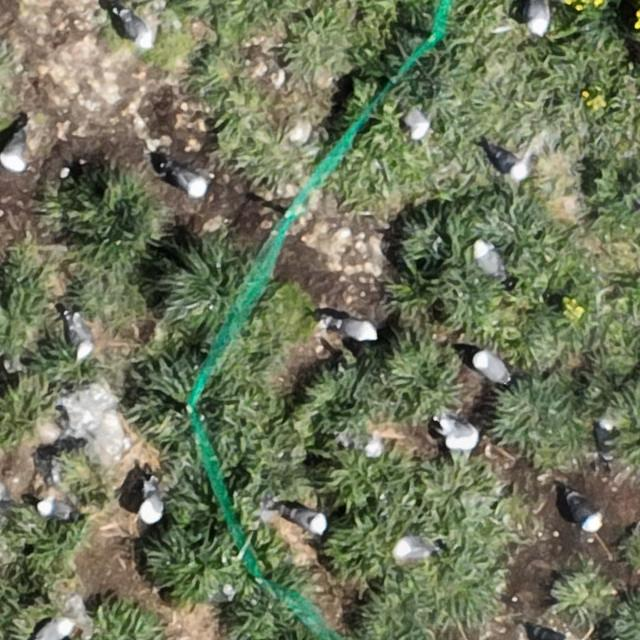umineko: (435, 410, 477, 450), (473, 354, 509, 383), (402, 99, 429, 137), (570, 496, 600, 530), (332, 319, 376, 342), (173, 168, 209, 195), (122, 13, 152, 45), (474, 246, 503, 279), (70, 319, 94, 358), (2, 133, 26, 172), (287, 509, 327, 532), (493, 153, 526, 177), (528, 0, 550, 36), (142, 486, 163, 522), (395, 540, 432, 559), (36, 620, 71, 639), (40, 500, 73, 520)
